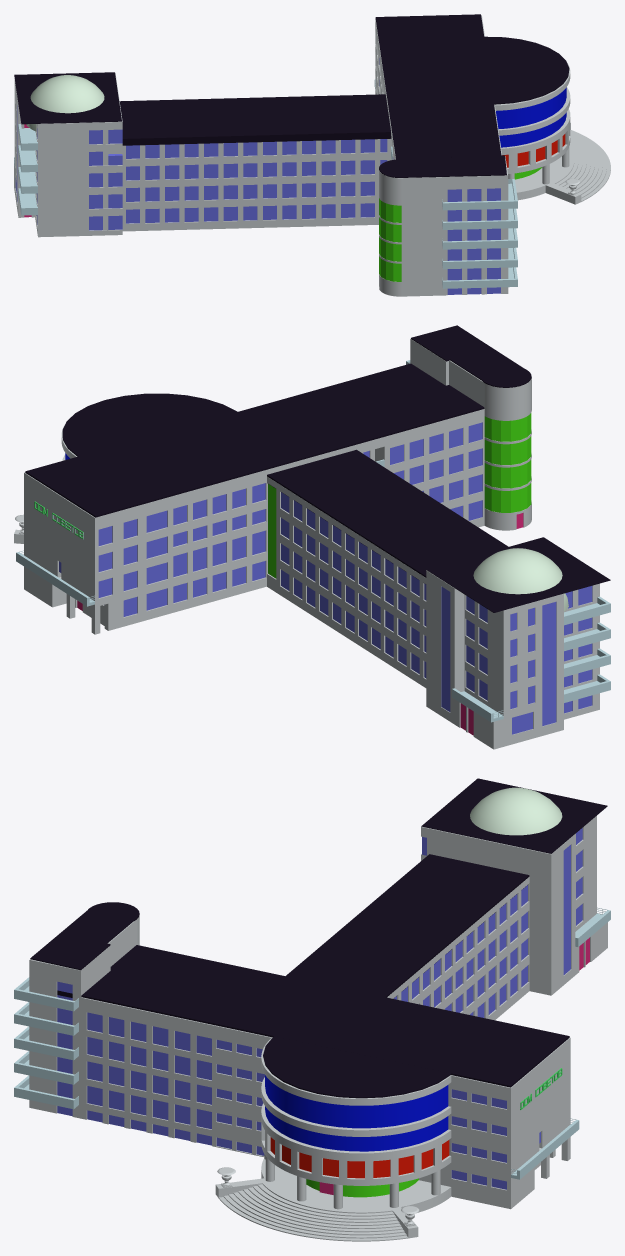
Rendered from sovet2.glb.
3 views of the same model, one above another, from view 1: azimuth 30°, elevation 25°; view 2: azimuth 150°, elevation 25°; view 3: azimuth 270°, elevation 25° (orthographic). The views are drawn at different scales.
Visible parts, largest first — view 1: ssovet; view 2: ssovet; view 3: ssovet.
Part boxes in pixels (x1,y1,x2,y2): ssovet: (14,14,610,296); ssovet: (14,325,610,749); ssovet: (14,778,610,1241).
Bounding box in the file's own units: 375 × 89.81 × 294.
